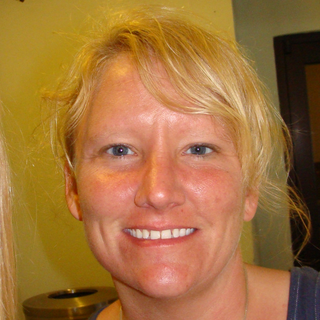eye: (178, 139, 223, 164), (96, 140, 141, 164)
